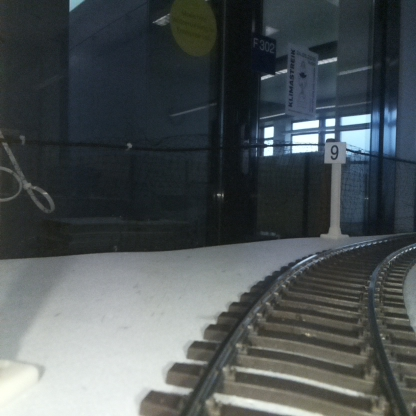white-info-9: (324, 142, 346, 236)
